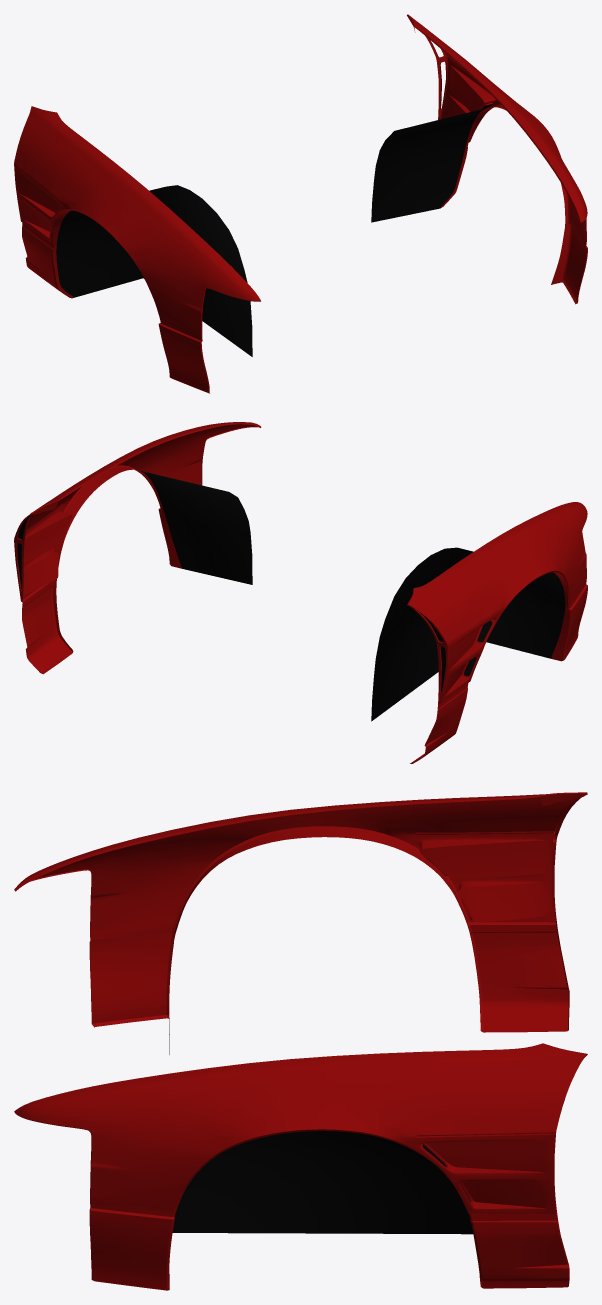
File: frontfenders_dmaxtype3.glb
3 views of the same model, one above another, from view 1: azimuth 30°, elevation 25°; view 2: azimuth 150°, elevation 25°; view 3: azimuth 270°, elevation 25° (orthographic). The views are drawn at different scales.
Parts seen in each view (by area): view 1: Fenders, Undercarriage; view 2: Fenders, Undercarriage, Covers; view 3: Fenders, Undercarriage.
Part boxes in pixels (bbox=[...]): Fenders: bbox=[14, 14, 587, 393]; Undercarriage: bbox=[56, 108, 486, 356]; Fenders: bbox=[14, 422, 587, 763]; Undercarriage: bbox=[141, 471, 565, 721]; Covers: bbox=[17, 515, 492, 692]; Fenders: bbox=[14, 792, 587, 1290]; Undercarriage: bbox=[169, 1024, 473, 1280].
Size of the model in its own units: 1.77 by 0.6542 by 1.41.
